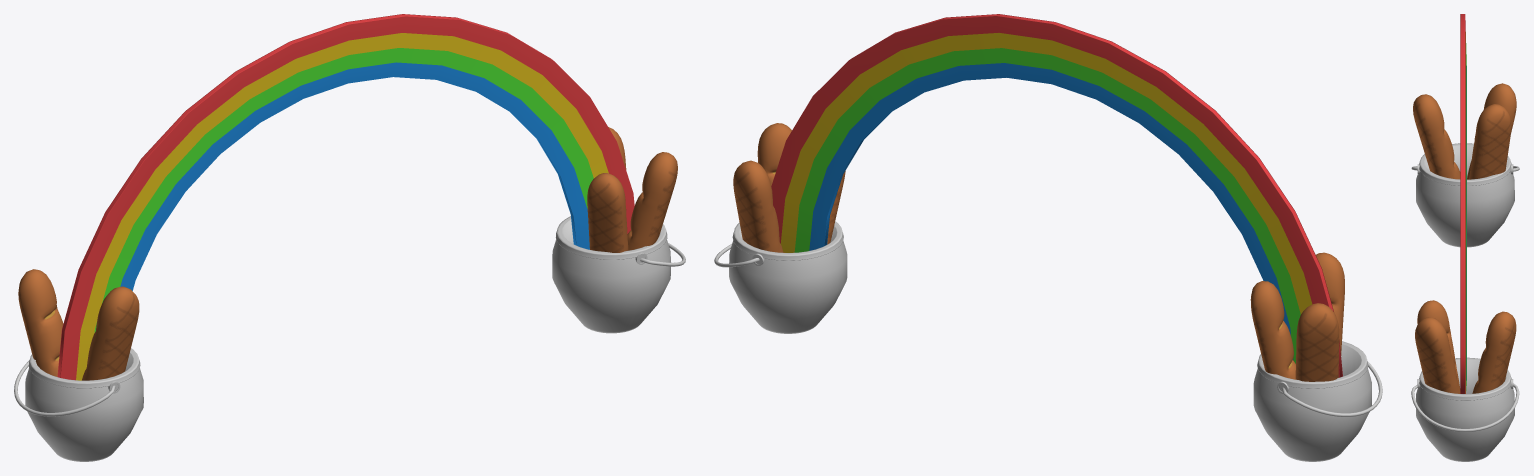
The model's file is gapura.fbx.
The picture shows the model from 3 angles, left to right: view 1: azimuth 30°, elevation 25°; view 2: azimuth 150°, elevation 25°; view 3: azimuth 270°, elevation 25°; orthographic projection. The views are drawn at different scales.
Visible parts, largest first — view 1: Cylinder.004, Cylinder.002, Cylinder, Cube.002, Cube, Cube.005, Cube.003; view 2: Cylinder.004, Cylinder, Cylinder.002, Cube.004, Cube, Cube.001, Cube.002, Cube.005; view 3: Cylinder.002, Cylinder, Cylinder.004, Cube.001, Cube.005, Cube.002, Cube.004, Cube, Cube.003, BezierCircle.
Part boxes in pixels (x1,y1,x2,y2): Cylinder.004: (57,14,634,380); Cylinder.002: (552,216,670,333); Cylinder: (25,348,143,461); Cube.002: (82,286,139,380); Cube: (18,269,63,376); Cube.005: (627,152,677,250); Cube.003: (587,173,628,252); Cylinder.004: (771,14,1342,377); Cylinder: (1253,341,1371,461); Cylinder.002: (729,221,847,333); Cube.004: (733,160,783,252); Cube: (1295,303,1339,381); Cube.001: (1250,281,1295,379); Cube.002: (1316,252,1344,355); Cube.005: (757,123,791,252); Cylinder.002: (1416,357,1514,461); Cylinder: (1416,143,1514,247); Cylinder.004: (1460,14,1466,393); Cube.001: (1469,104,1511,179); Cube.005: (1415,317,1460,393); Cube.002: (1413,94,1460,179); Cube.004: (1472,311,1516,393); Cube: (1467,83,1516,179); Cube.003: (1417,300,1460,388); BezierCircle: (1411,383,1519,431).
Size of the model in its own units: 1916 by 1018 by 331.
